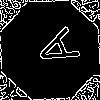A: (25, 25, 81, 75)
